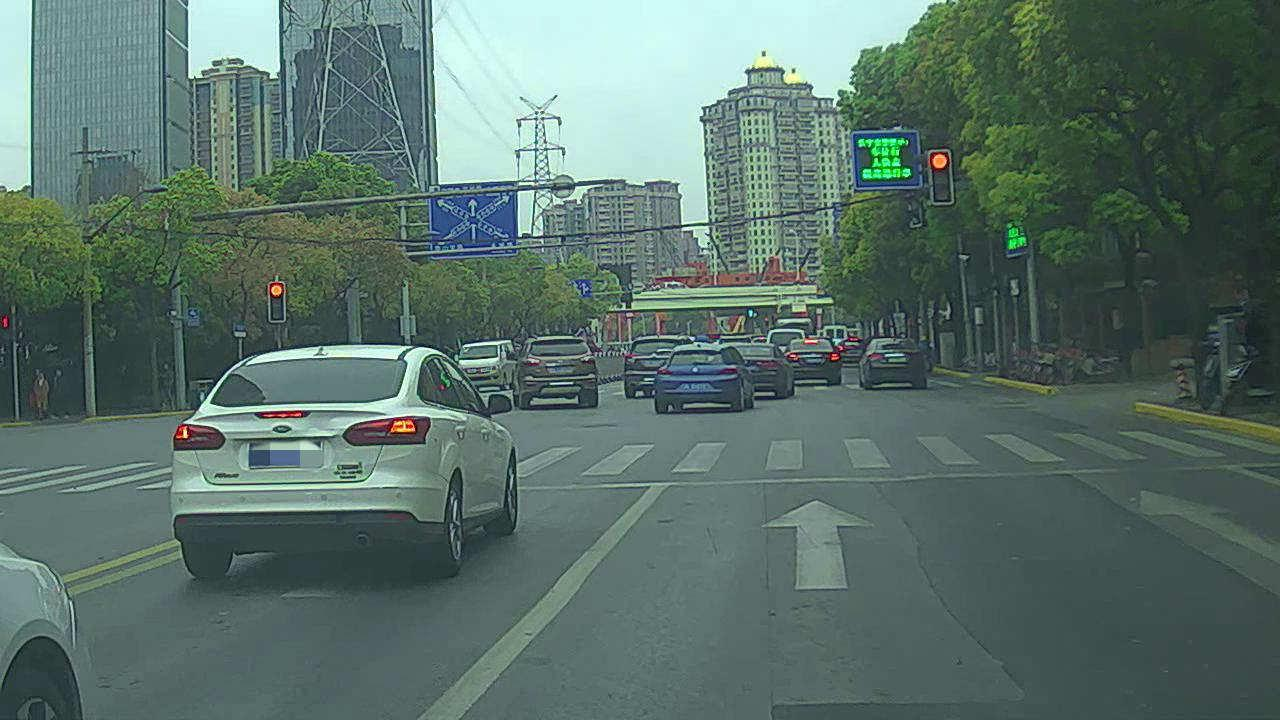traffic_light: (929, 151, 952, 204), (269, 281, 288, 323)
